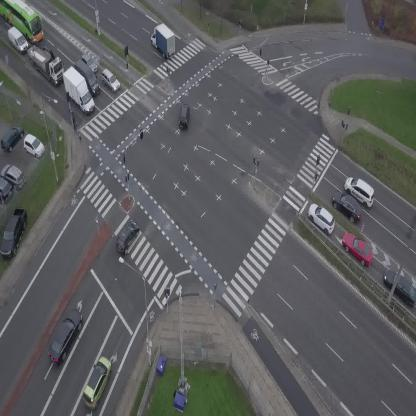bicycle: (72, 114, 79, 132)
car: (42, 304, 89, 367), (78, 355, 116, 412), (337, 226, 379, 270), (327, 186, 368, 226), (339, 171, 381, 210), (303, 199, 341, 236), (109, 218, 144, 257), (97, 67, 124, 94), (79, 50, 102, 73), (178, 104, 190, 129)
lorry: (17, 33, 72, 88), (58, 63, 97, 118), (143, 20, 185, 62), (72, 57, 104, 98), (3, 25, 33, 55)
